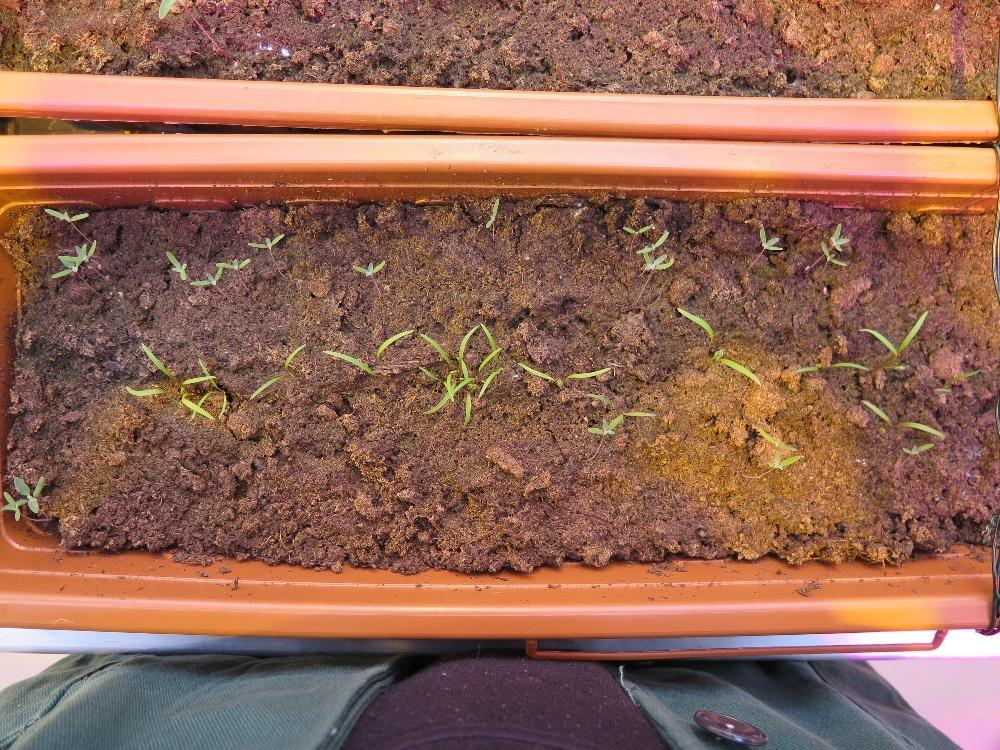weed: (755, 425, 796, 451), (585, 413, 622, 435), (757, 224, 782, 252), (42, 206, 88, 221), (164, 249, 186, 280), (246, 232, 284, 249), (829, 220, 849, 251), (351, 258, 385, 276), (900, 440, 933, 455), (485, 196, 499, 228), (621, 222, 652, 234)
